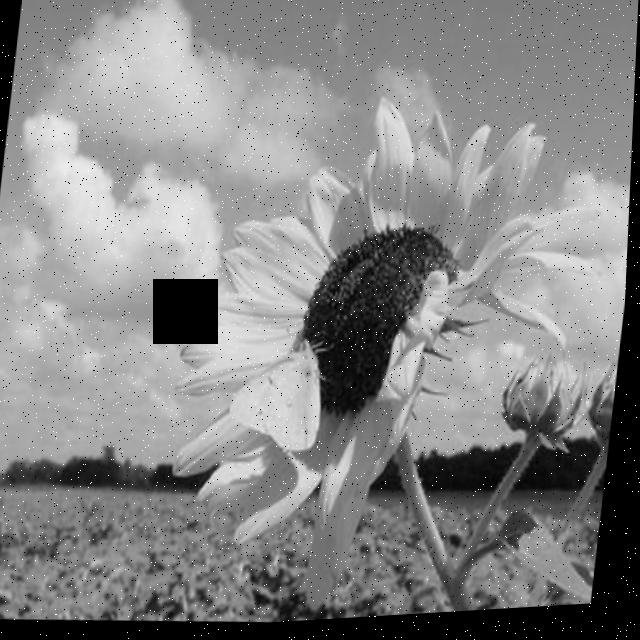sunflower: (153, 0, 619, 632)
